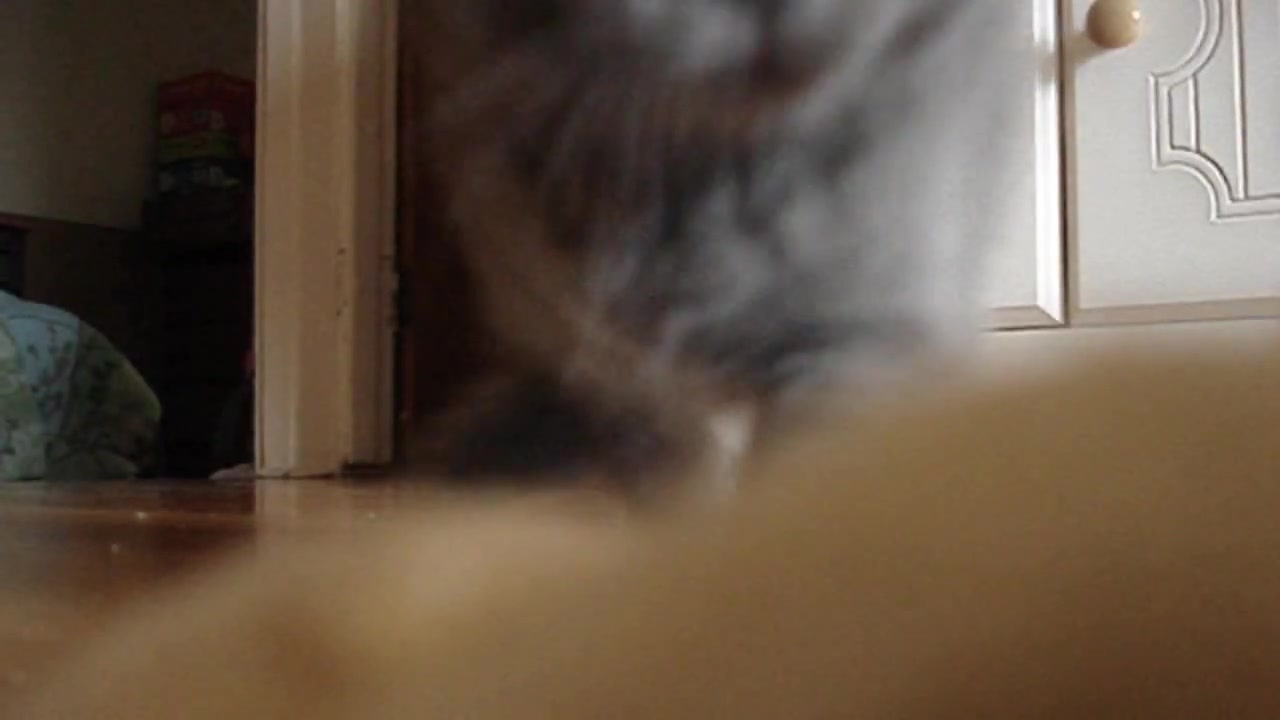cat: (415, 2, 999, 495)
